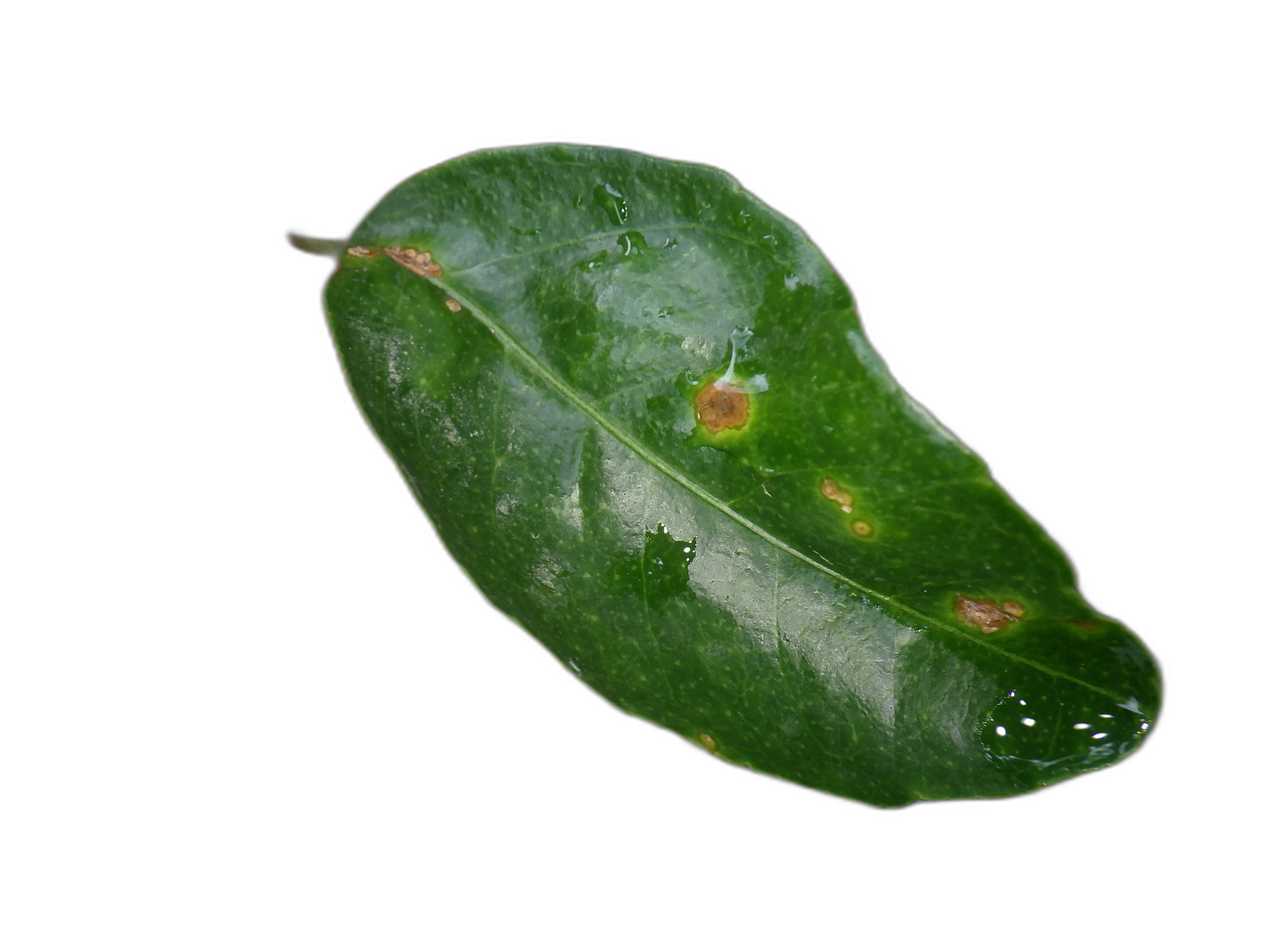Canker: (696, 382, 752, 432), (955, 595, 1023, 632), (384, 249, 441, 275), (820, 477, 853, 513), (849, 519, 873, 537)
